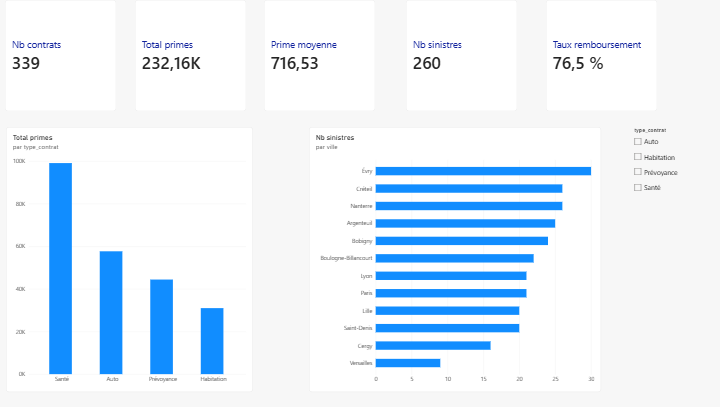

What the dashboard file says about the page in this screenshot:
{"tool":"powerbi","page":{"name":"Page 1","canvas":[1920,1080],"ordinal":0},"visuals":[{"type":"cardVisual","fields":{"Data":["contrats.Nb contrats"]},"box":[65.5,0,280,280],"z":0},{"type":"cardVisual","fields":{"Data":["contrats.Total primes"]},"box":[393,0,280,280],"z":1},{"type":"cardVisual","fields":{"Data":["contrats.Prime moyenne"]},"box":[718.6,0,280,280],"z":2},{"type":"cardVisual","fields":{"Data":["sinistres.Nb sinistres"]},"box":[1076.7,0,280,280],"z":3},{"type":"cardVisual","fields":{"Data":["sinistres.Taux remboursement"]},"box":[1427.9,0,280,280],"z":4},{"type":"clusteredColumnChart","fields":{"Category":["contrats.type_contrat"],"Y":["contrats.Total primes"]},"box":[68,320,622.4,667.7],"z":5},{"type":"clusteredBarChart","fields":{"Category":["clients.ville"],"Y":["sinistres.Nb sinistres"]},"box":[831.5,320,735.7,667.7],"z":6},{"type":"slicer","fields":{"Values":["contrats.type_contrat"]},"box":[1642.8,320,239.4,372.9],"z":7}]}

Visuals, with their boxes in screenshot pixels (x1, y1, x2, y2), scaled from the page's 1920x1080 canvas onto the 720x407 screenshot:
cardVisual - contrats.Nb contrats: 25 0 130 106
cardVisual - contrats.Total primes: 147 0 252 106
cardVisual - contrats.Prime moyenne: 269 0 374 106
cardVisual - sinistres.Nb sinistres: 404 0 509 106
cardVisual - sinistres.Taux remboursement: 535 0 640 106
clusteredColumnChart - contrats.type_contrat x contrats.Total primes: 26 121 259 372
clusteredBarChart - clients.ville x sinistres.Nb sinistres: 312 121 588 372
slicer - contrats.type_contrat: 616 121 706 261
